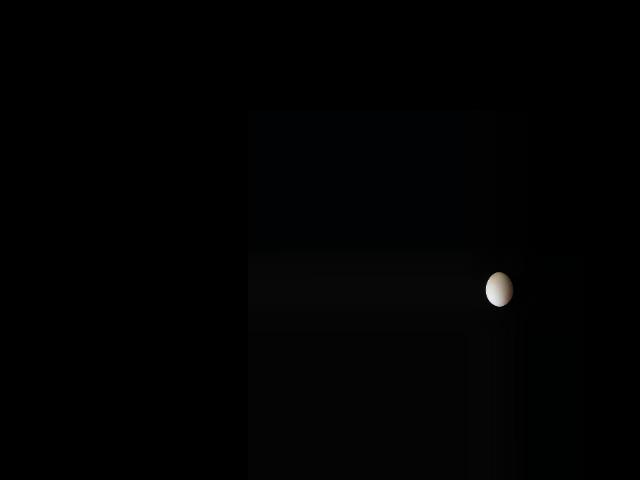egg: (485, 271, 513, 305)
